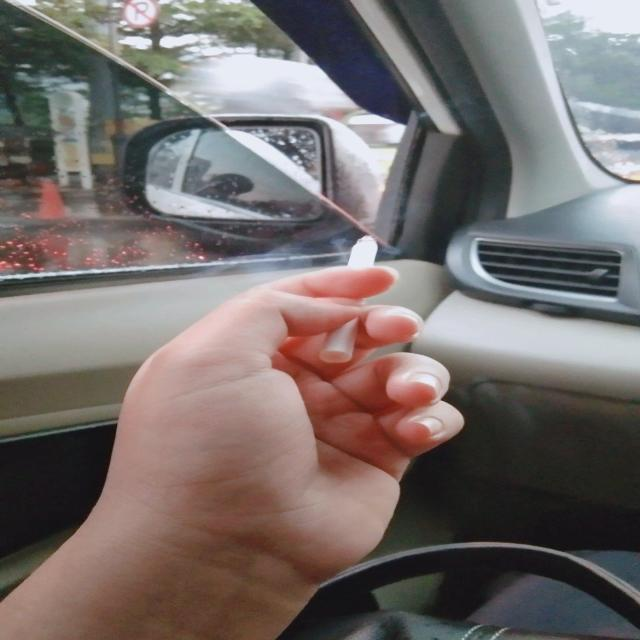rokok: (300, 230, 392, 370)
